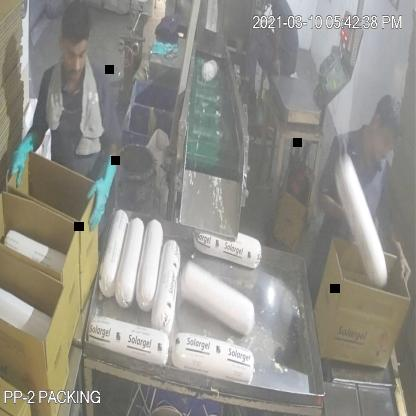glove: (80, 146, 125, 230), (4, 121, 44, 189)
no_glove: (380, 208, 413, 291), (314, 184, 358, 238)
